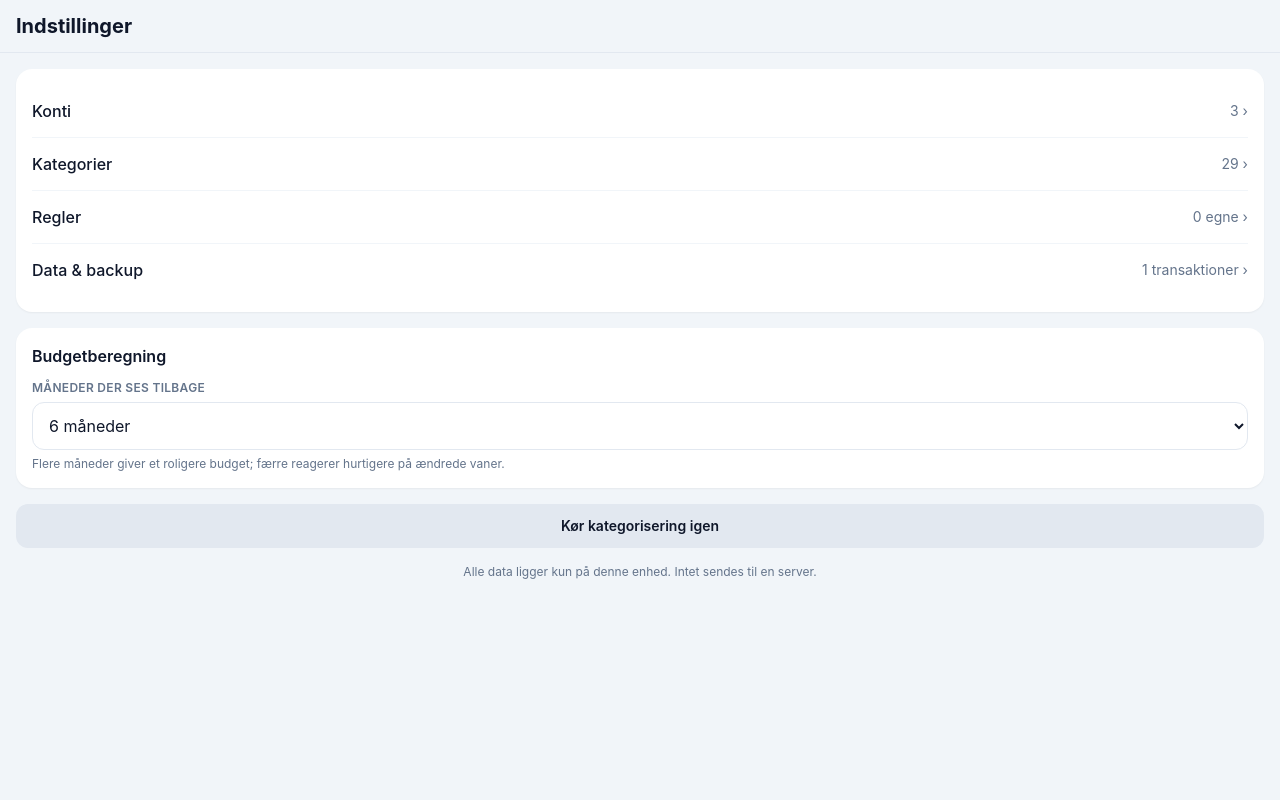
Test case: saving up in a category › turns rollover on and shows it on the row
Step 1. Click the button "Kategorier 29 ›" → (72, 164), box [32, 137, 1248, 190]
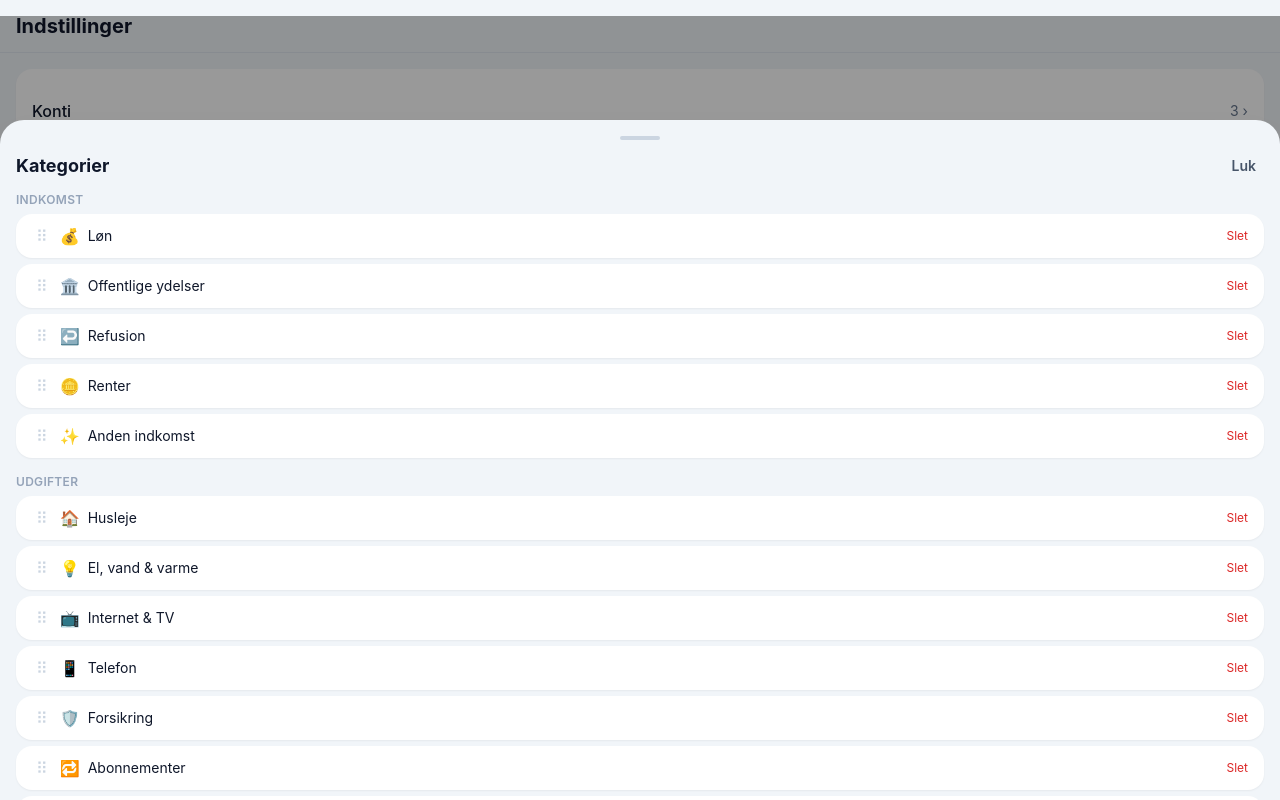
Step 2. Click the button "🛡️ Forsikring" → (120, 718), box [60, 706, 1218, 730]
(page scrolled)
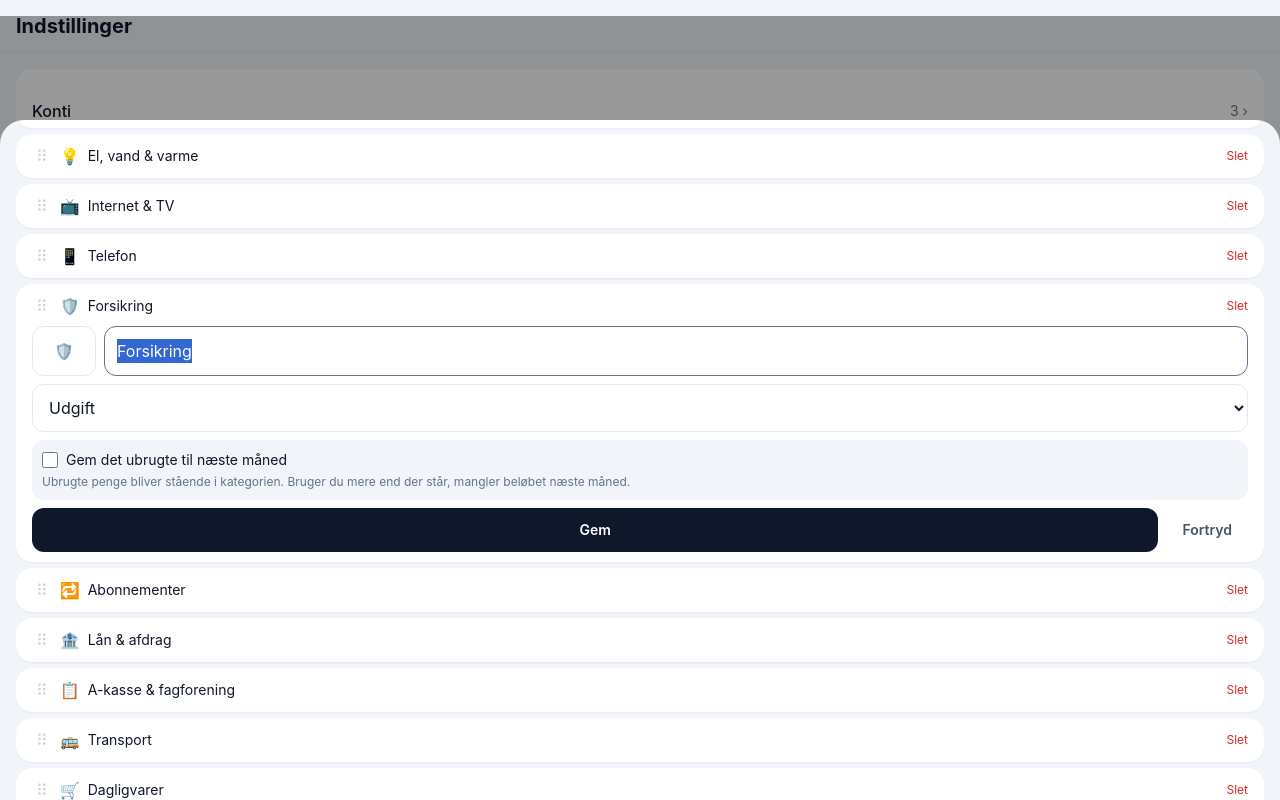
Step 3. Click the checkbox labelled "Gem det ubrugte til næste måned" → (50, 460), box [42, 452, 58, 468]
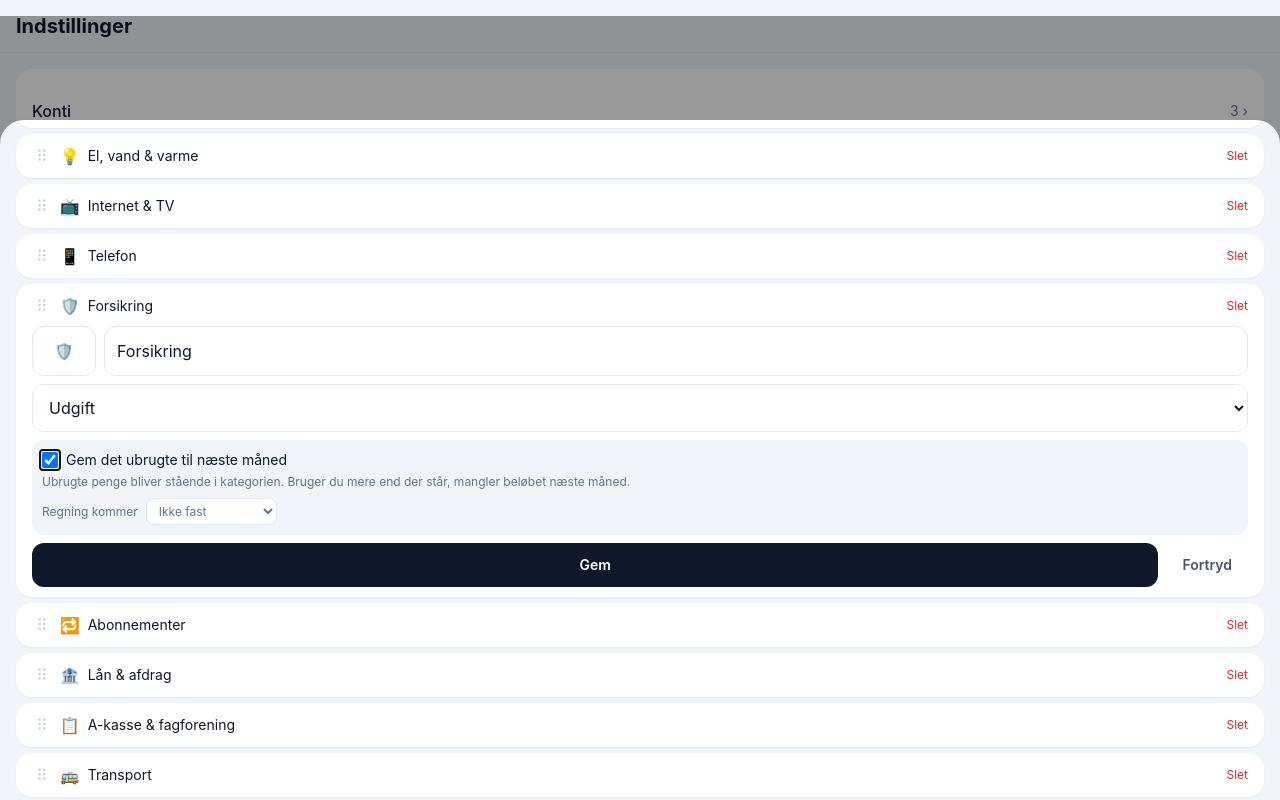
Step 4. Click the button "Gem" → (595, 565), box [32, 543, 1158, 587]
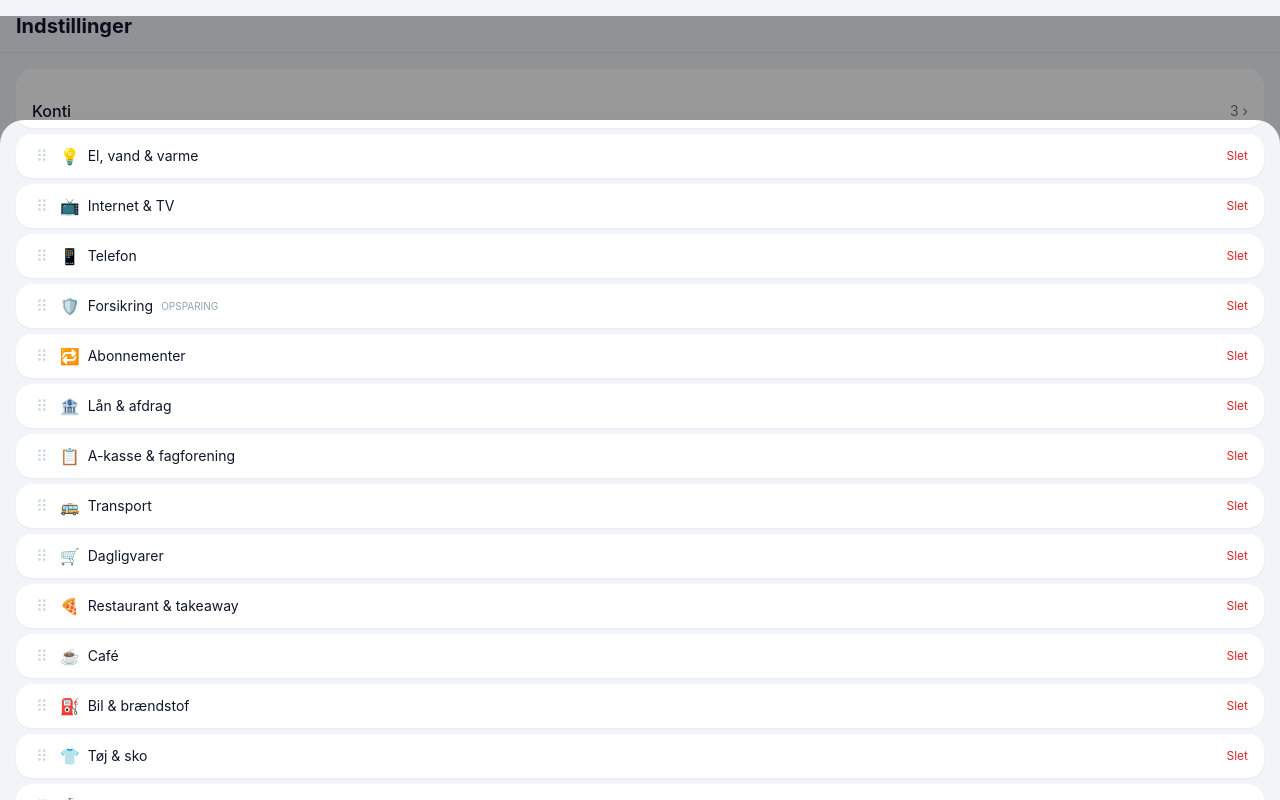
Check: the text "OPSPARING" is shown, box [161, 298, 218, 314]
